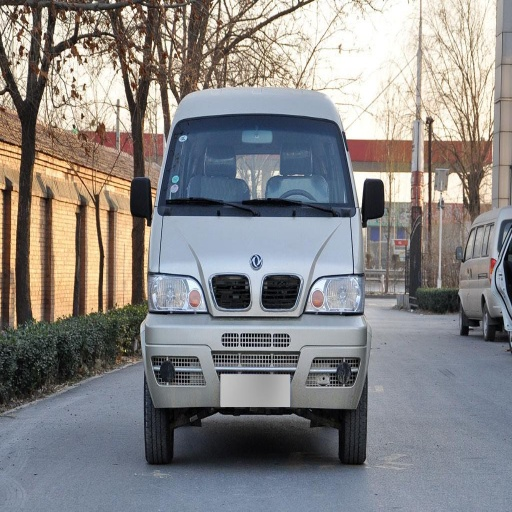front_bumper: (143, 258, 364, 409)
hood: (163, 217, 354, 278)
